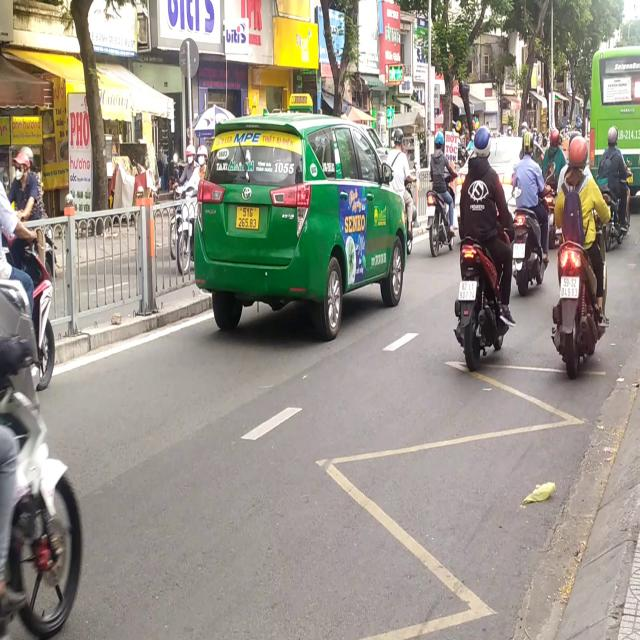bien_trang: (560, 270, 581, 302), (458, 275, 478, 304)
bien_vang: (236, 202, 261, 235)
